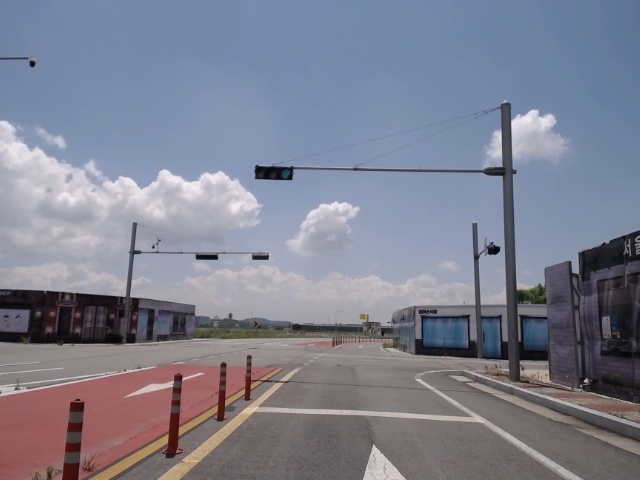green_3: (255, 165, 293, 179)
